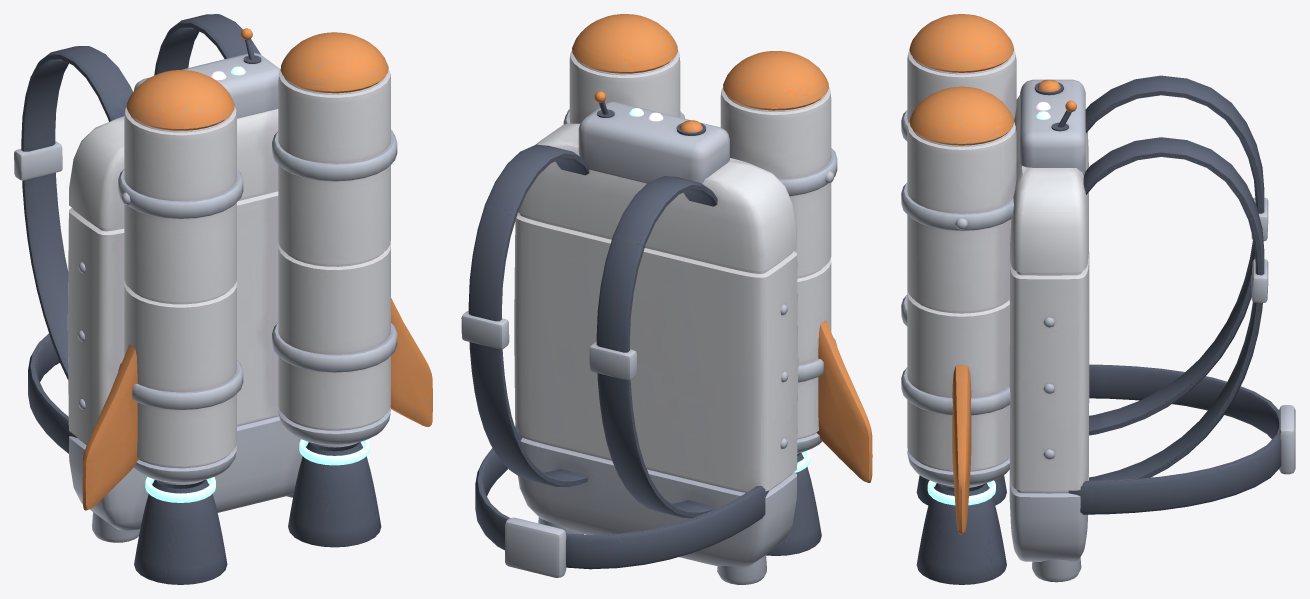
Rendered from mochila_cohete.glb.
3 renders of one model, left to right at view 1: azimuth 30°, elevation 25°; view 2: azimuth 150°, elevation 25°; view 3: azimuth 270°, elevation 25°, orthographic. The views are drawn at different scales.
Visible parts, largest first — view 1: jetpack_body; view 2: jetpack_body; view 3: jetpack_body.
Boxes of the visible parts, x1,y1,x2,y2 form: jetpack_body: (14, 14, 432, 584); jetpack_body: (461, 14, 872, 584); jetpack_body: (901, 14, 1295, 584).
Bounding box in the file's own units: 0.536 × 0.7167 × 0.541.
Materials: 5 (1 with a texture image).
